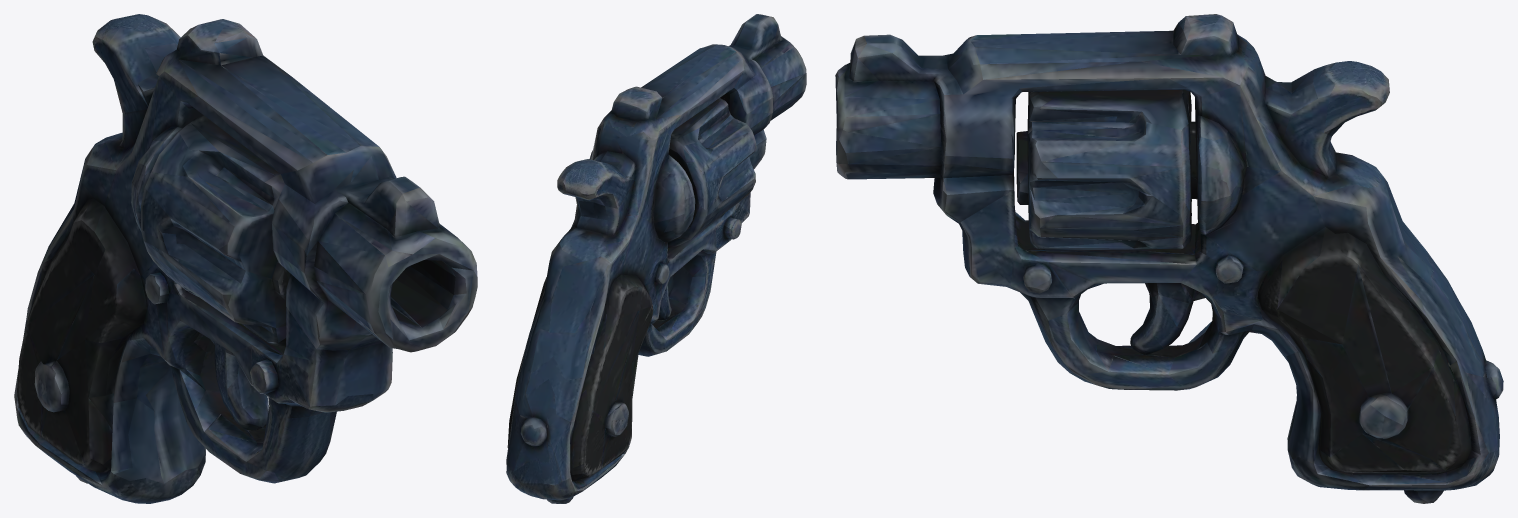
File: gun_snubby.glb
3 renders of one model, left to right at view 1: azimuth 30°, elevation 25°; view 2: azimuth 150°, elevation 25°; view 3: azimuth 270°, elevation 25°, orthographic. The views are drawn at different scales.
Bounding box in the file's own units: 0.0507 × 0.1432 × 0.18.
1 material, 1 textured.
